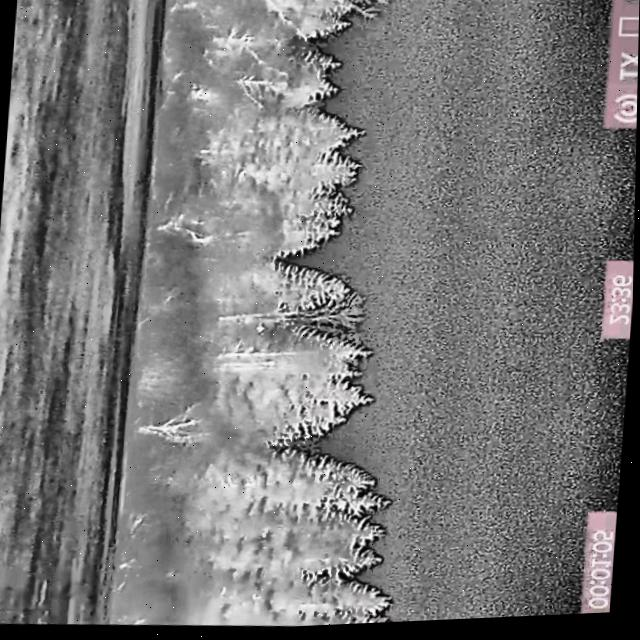drone: (255, 323, 269, 337)
